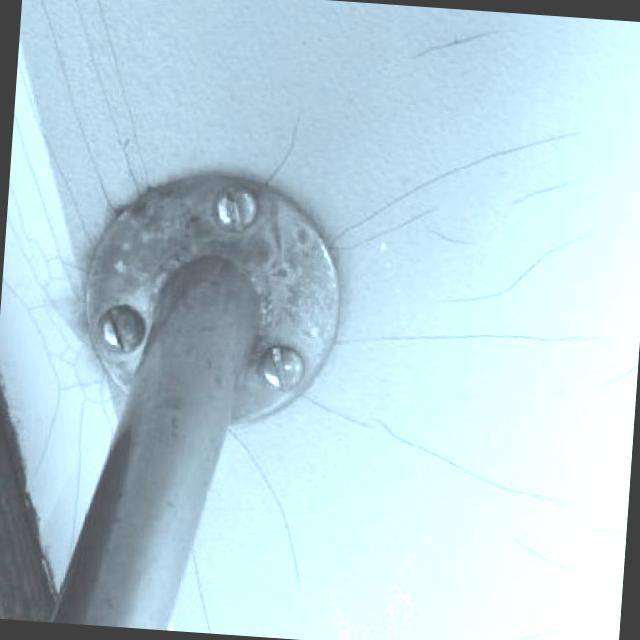crack: (314, 105, 598, 272), (363, 402, 575, 504), (230, 444, 338, 598), (432, 223, 601, 320), (358, 316, 601, 378), (490, 159, 600, 226), (382, 23, 534, 69), (479, 534, 563, 576), (408, 212, 468, 265)
